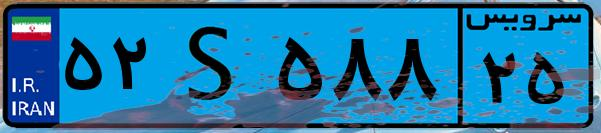2: (475, 38, 525, 113), (110, 28, 158, 98)
5: (270, 28, 330, 110), (57, 26, 110, 100), (525, 38, 570, 115)
8: (385, 28, 445, 110), (330, 28, 385, 110)
S: (158, 12, 270, 120)
